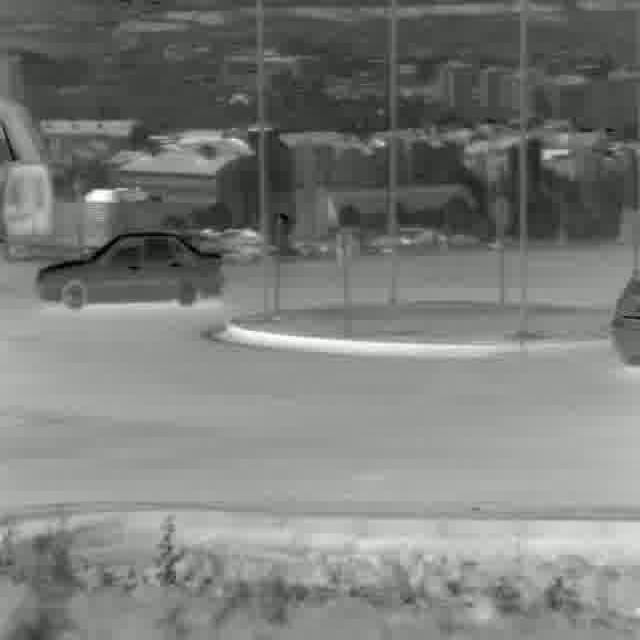Car: (33, 227, 225, 314), (610, 268, 640, 364)
